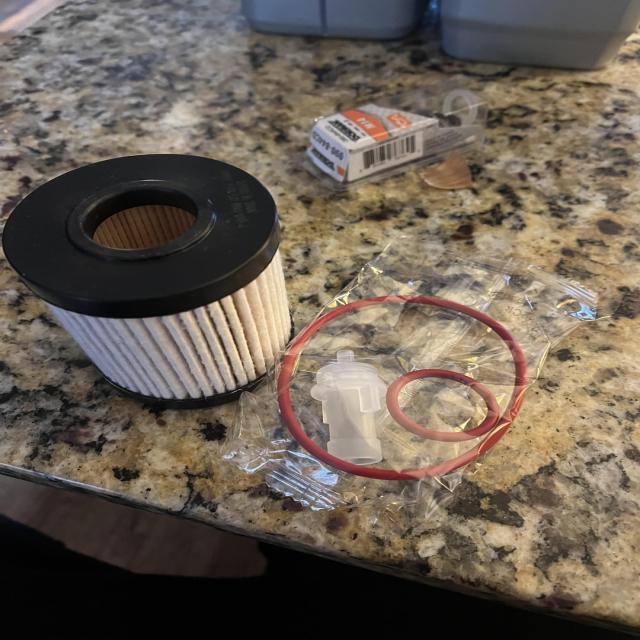oil_filter: (2, 154, 290, 409)
